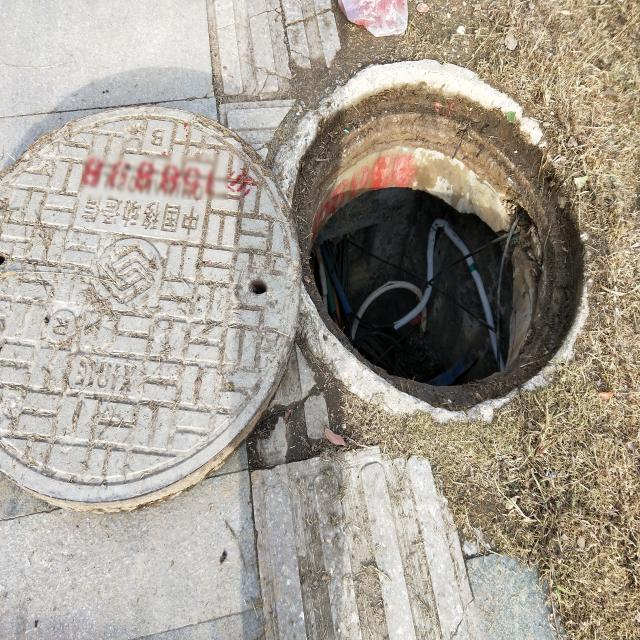Lose: (0, 59, 594, 512)
